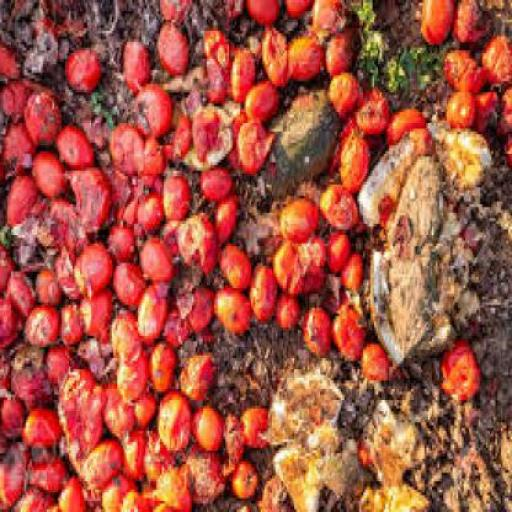biodegradable: (370, 159, 472, 364), (272, 92, 341, 188), (266, 378, 346, 450), (363, 140, 421, 236), (432, 118, 494, 196), (60, 369, 110, 462), (277, 445, 341, 511), (345, 3, 389, 92), (274, 447, 330, 511), (188, 106, 240, 170), (384, 44, 442, 101), (69, 171, 116, 238), (333, 121, 372, 193), (178, 221, 222, 280), (74, 241, 116, 302), (52, 207, 96, 263), (271, 238, 311, 299), (316, 450, 360, 504), (188, 450, 227, 510), (11, 361, 55, 414), (203, 30, 233, 107), (445, 344, 482, 406), (110, 123, 147, 185), (26, 92, 64, 152), (352, 92, 394, 146), (357, 481, 432, 511), (56, 123, 100, 174), (9, 176, 46, 235), (80, 291, 117, 350), (24, 408, 62, 465), (39, 23, 88, 67), (99, 154, 134, 215), (138, 291, 173, 350), (160, 394, 193, 456), (334, 304, 368, 364), (320, 190, 362, 238), (2, 126, 37, 182), (265, 28, 294, 95), (242, 123, 276, 180), (251, 268, 283, 328), (138, 89, 175, 140), (112, 310, 145, 367), (2, 445, 30, 511), (119, 352, 151, 409), (122, 44, 154, 101), (86, 442, 122, 492), (9, 229, 49, 274), (32, 456, 74, 498), (68, 47, 102, 98), (158, 28, 190, 82), (326, 34, 363, 80), (181, 353, 215, 403), (106, 389, 138, 442), (24, 313, 66, 353), (167, 115, 197, 171), (232, 45, 258, 109), (284, 198, 318, 246), (456, 3, 493, 47), (220, 420, 248, 478), (149, 475, 194, 511), (186, 288, 218, 338), (290, 37, 324, 84), (448, 50, 486, 92), (159, 70, 210, 101), (218, 294, 253, 339), (78, 112, 118, 151), (162, 305, 195, 352), (423, 3, 458, 47), (313, 3, 348, 47), (149, 434, 178, 487), (302, 310, 334, 358), (389, 114, 432, 149), (2, 81, 34, 128), (161, 465, 195, 509), (36, 157, 70, 201), (121, 433, 147, 490), (54, 254, 81, 308), (2, 397, 28, 453), (114, 266, 147, 310), (108, 230, 142, 272), (164, 179, 196, 223), (246, 86, 283, 123), (193, 414, 225, 456), (482, 42, 511, 87), (222, 246, 251, 291), (242, 414, 274, 454), (144, 243, 176, 283), (10, 486, 61, 511), (3, 291, 22, 358), (13, 274, 39, 322), (62, 302, 86, 353), (106, 472, 138, 510), (331, 80, 363, 118), (143, 134, 168, 182), (478, 93, 503, 140), (248, 3, 285, 34), (38, 274, 67, 313), (449, 95, 478, 134), (136, 392, 161, 436), (363, 344, 389, 386), (232, 462, 258, 504), (202, 173, 234, 207), (216, 198, 238, 246), (329, 237, 354, 277), (262, 478, 292, 510), (59, 481, 90, 511), (342, 257, 367, 294), (2, 246, 20, 297), (52, 352, 76, 389), (309, 252, 327, 299), (162, 3, 195, 28), (214, 3, 246, 28), (120, 201, 142, 236), (3, 47, 22, 87), (163, 226, 182, 266), (283, 3, 316, 25), (324, 291, 350, 316), (281, 305, 306, 330), (501, 86, 511, 140), (410, 137, 436, 157), (122, 495, 148, 511), (84, 490, 103, 511), (362, 445, 374, 476), (199, 333, 219, 350), (508, 137, 511, 171)
